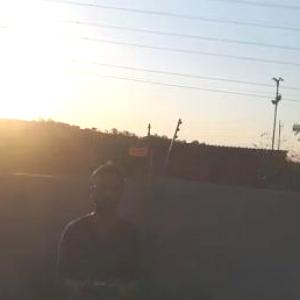follow: (48, 156, 151, 299)
